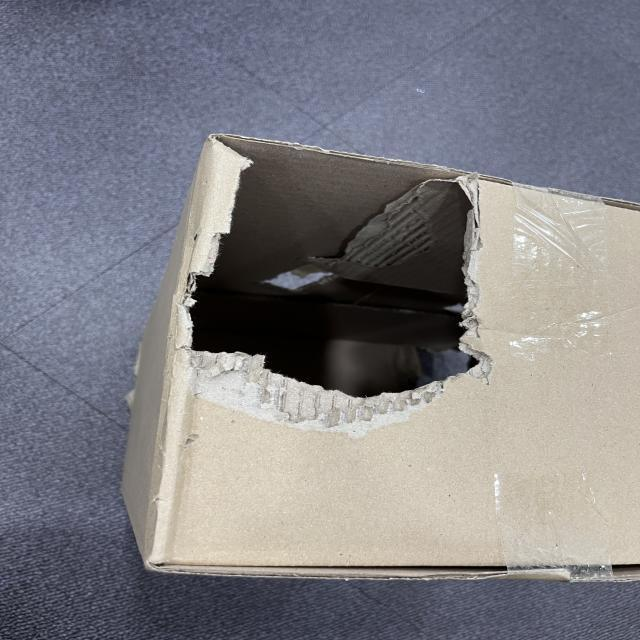hole: (170, 134, 471, 400)
